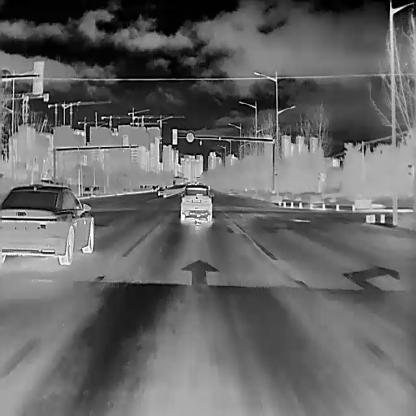car: (0, 183, 94, 264), (178, 184, 214, 221), (157, 186, 164, 194), (150, 184, 156, 191)
